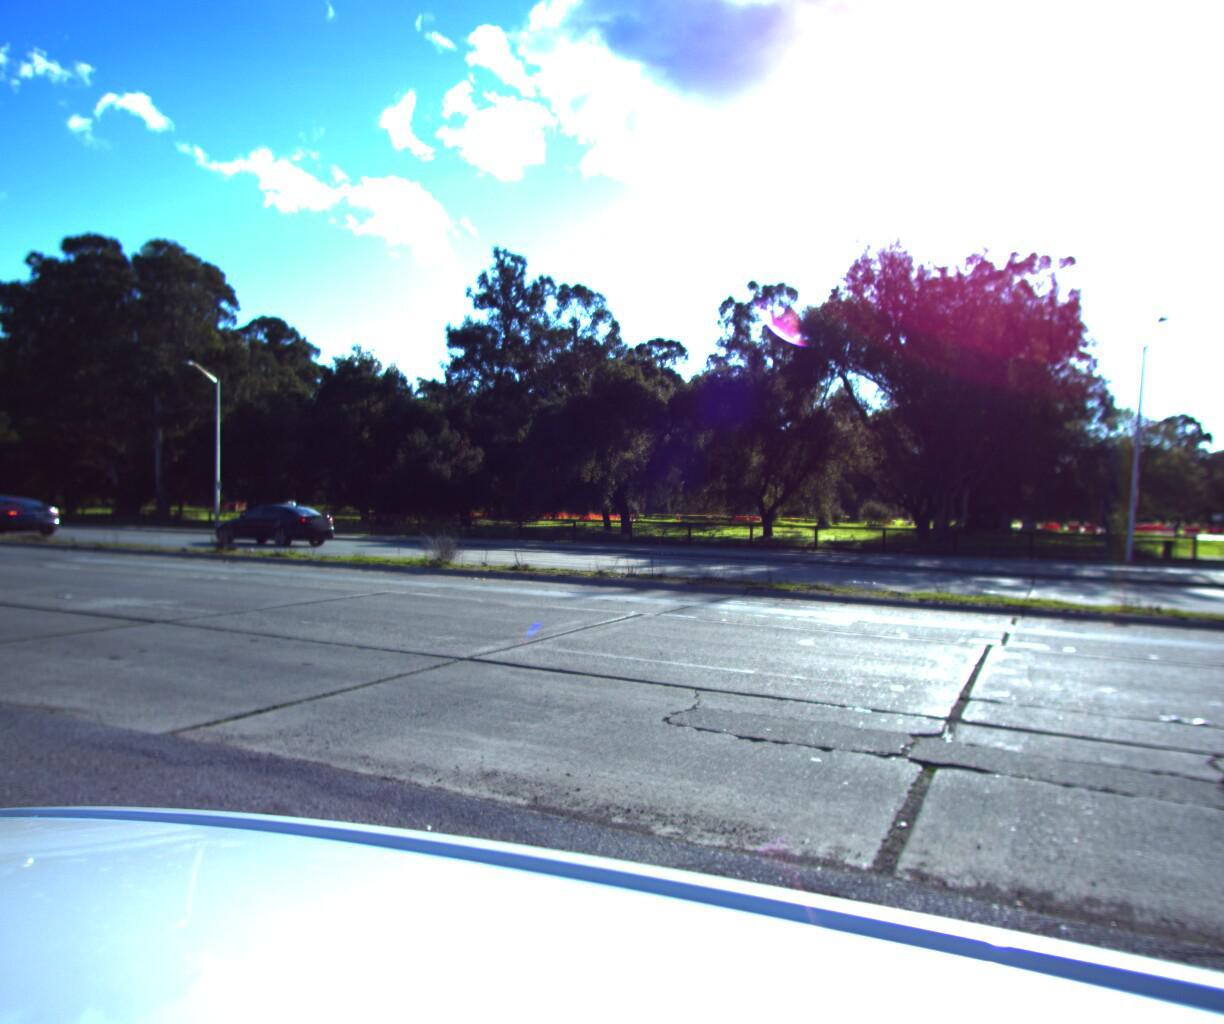car: (216, 499, 347, 543), (0, 490, 67, 535)
